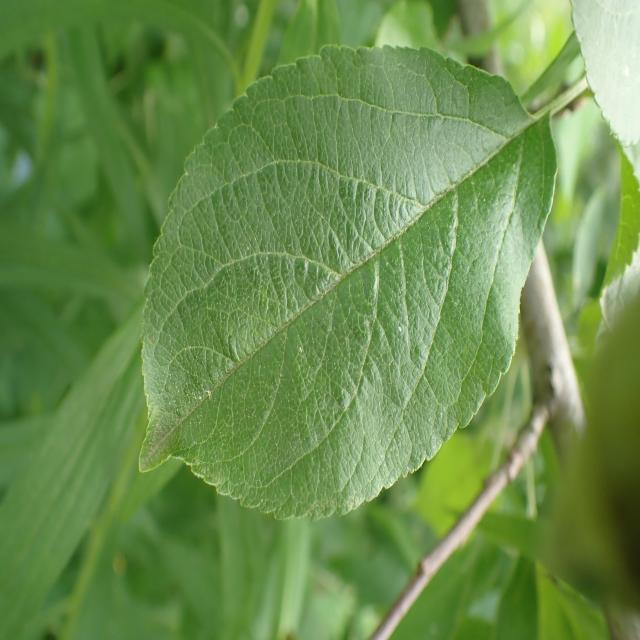healthy: (139, 42, 558, 521), (569, 1, 640, 169)
